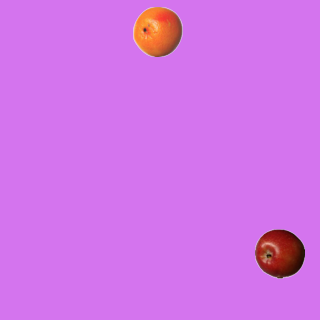Apple Braeburn: (254, 228, 304, 278)
Grapefruit Pink: (132, 6, 182, 56)
